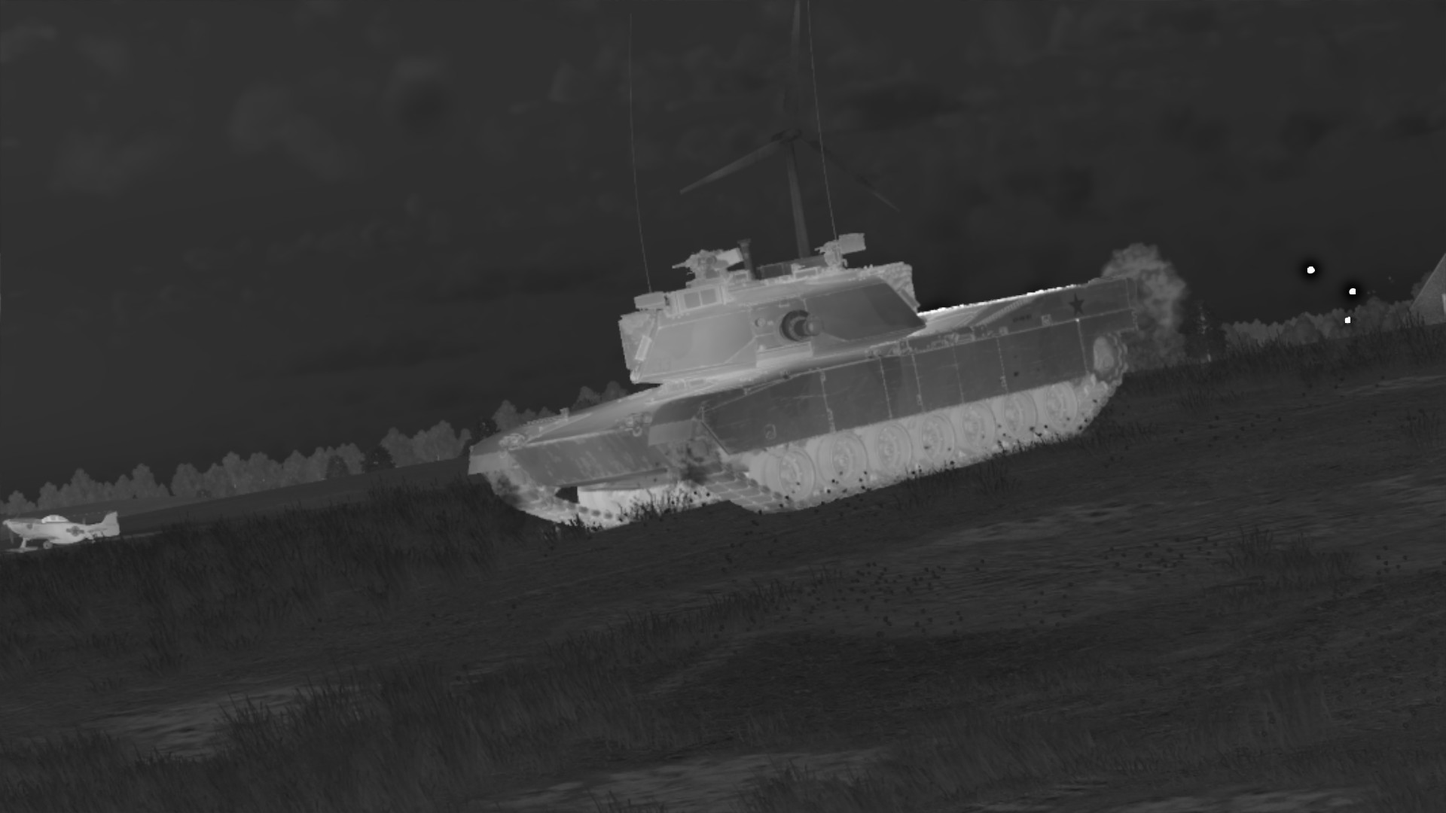abrams: (466, 230, 1143, 531)
